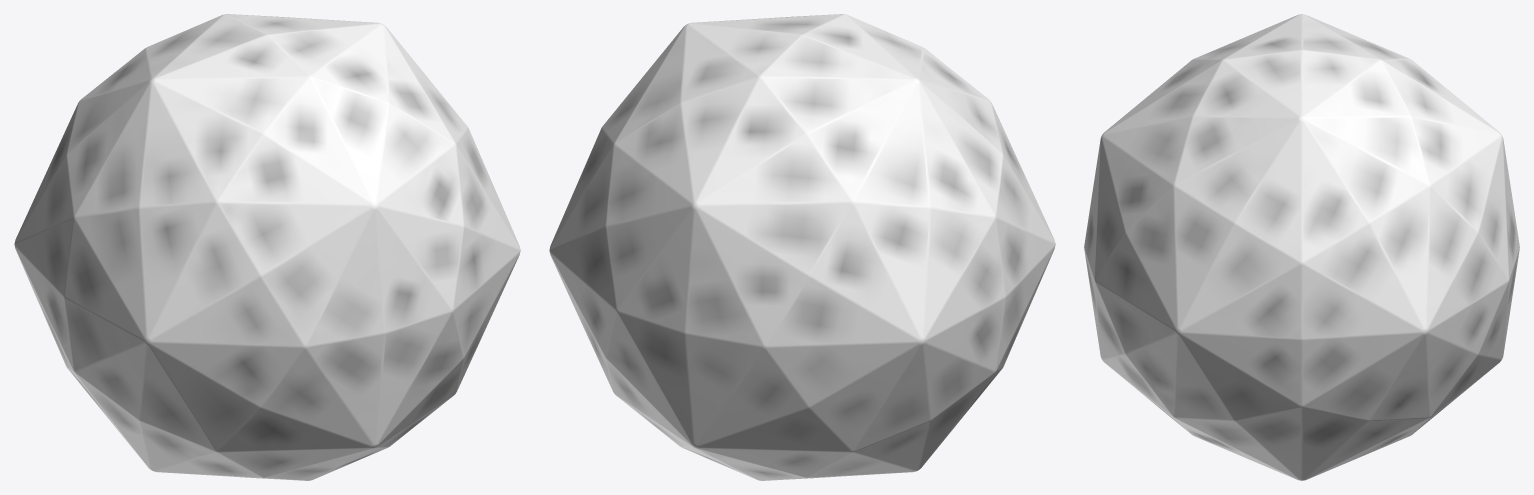
3 renders of one model, left to right at view 1: azimuth 30°, elevation 25°; view 2: azimuth 150°, elevation 25°; view 3: azimuth 270°, elevation 25°, orthographic. The views are drawn at different scales.
Visible parts, largest first — view 1: D120; view 2: D120; view 3: D120.
Boxes of the visible parts, <box> form: D120: <box>14,14,520,480</box>; D120: <box>549,14,1055,480</box>; D120: <box>1084,14,1519,480</box>.
Bounding box in the file's own units: 0.0288 × 0.0288 × 0.0288.
1 material, 1 textured.
